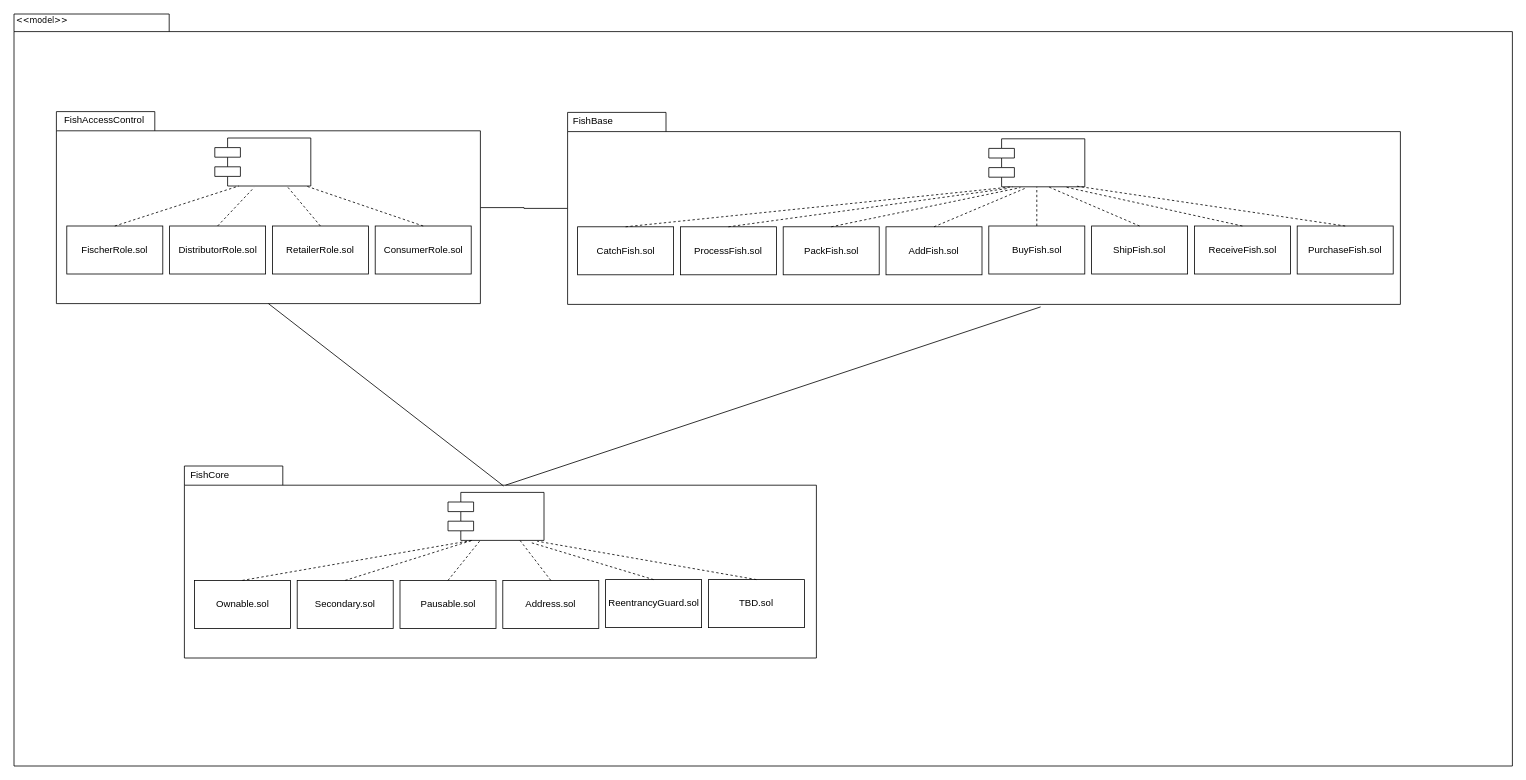
The diagram is 1526 pixels wide and 780 high, and some of its shapes have lost their labels. The centre of each missing label's shape, as x and y in pixels:
Roles.sol: point 262,161
SupplyChain .sol: point 1036,162
ValueChain .sol: point 495,516
